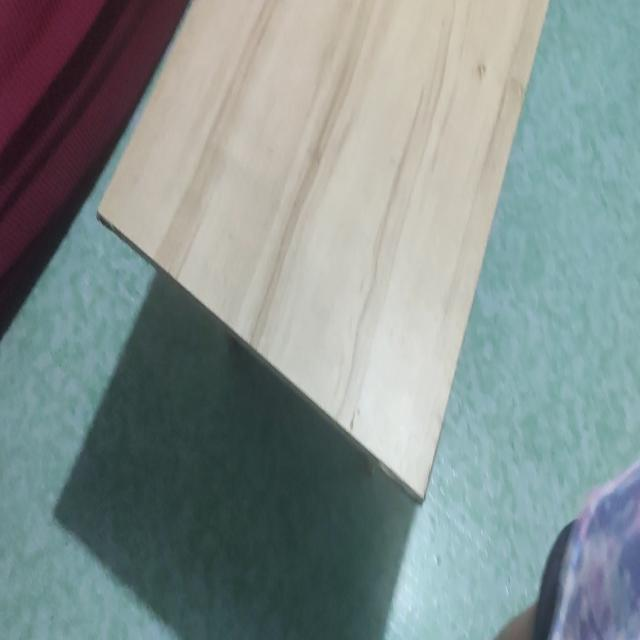table: (94, 0, 552, 494)
